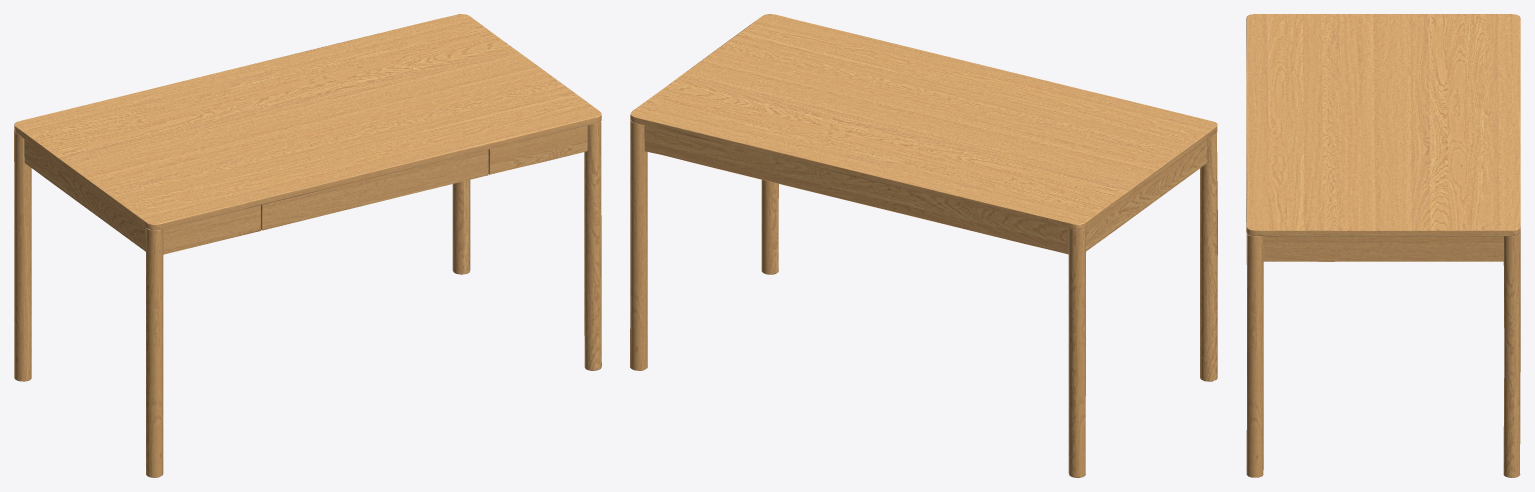
File: tonstad_desk_oak_veneer.glb
3 renders of one model, left to right at view 1: azimuth 30°, elevation 25°; view 2: azimuth 150°, elevation 25°; view 3: azimuth 270°, elevation 25°, orthographic. The views are drawn at different scales.
Parts seen in each view (by area): view 1: 30538198-TONSTAD001; view 2: 30538198-TONSTAD001; view 3: 30538198-TONSTAD001.
Boxes of the visible parts, x1,y1,x2,y2 form: 30538198-TONSTAD001: [14, 14, 601, 477]; 30538198-TONSTAD001: [630, 14, 1217, 477]; 30538198-TONSTAD001: [1246, 14, 1520, 477].
Bounding box in the file's own units: 1.4 × 0.7503 × 0.7503.
1 material, 1 textured.
